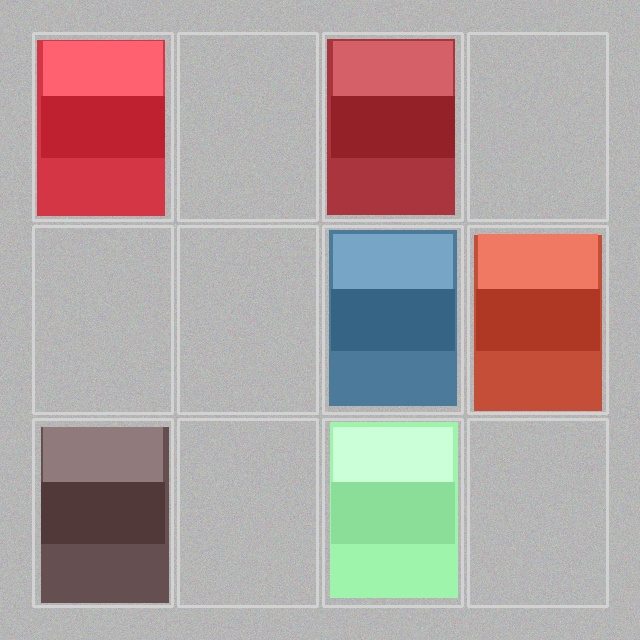space-empty: (180, 35, 315, 218), (470, 35, 605, 218), (35, 228, 170, 411), (180, 228, 315, 411), (180, 421, 315, 604), (470, 421, 605, 604)
space-occupied: (35, 35, 170, 218), (325, 35, 460, 218), (325, 228, 460, 411), (470, 228, 605, 411), (35, 421, 170, 604), (325, 421, 460, 604)
